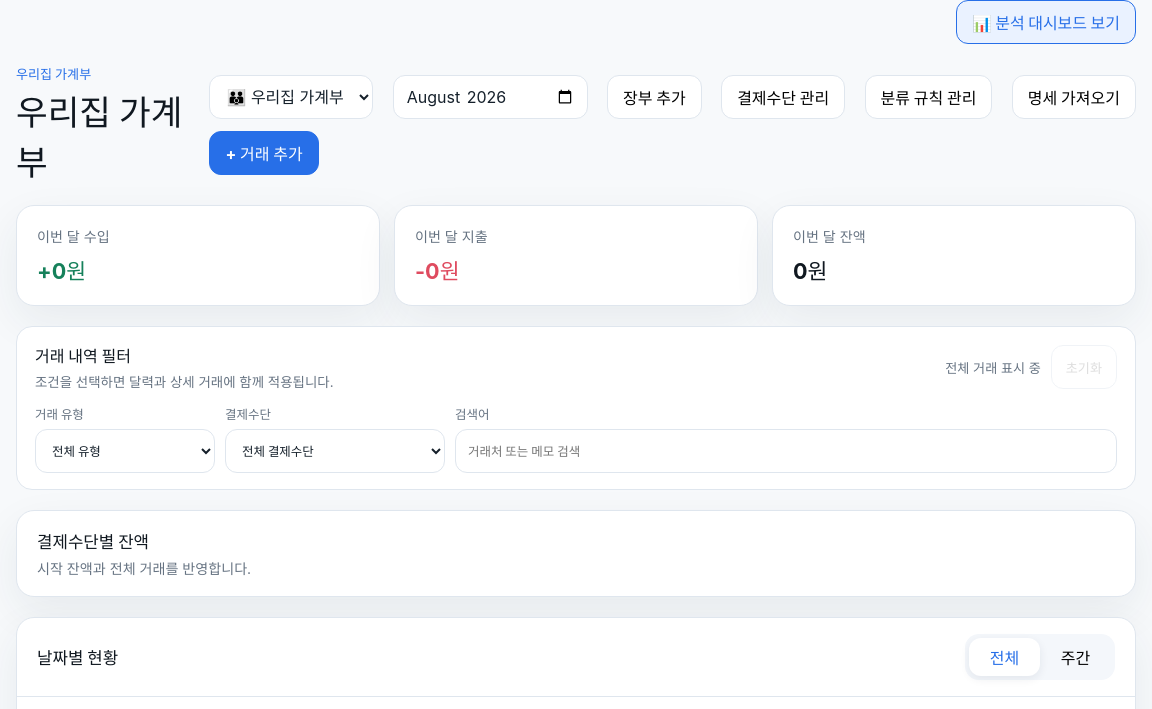
LedgerPage › clearly labels active ledger filters and resets them
Expected: the heading "거래 내역 필터" is shown, x1=35 y1=346 x2=131 y2=366
Select "수입" in the dropdown named "거래 유형 필터" at [125, 451], box x1=35 y1=429 x2=215 y2=473
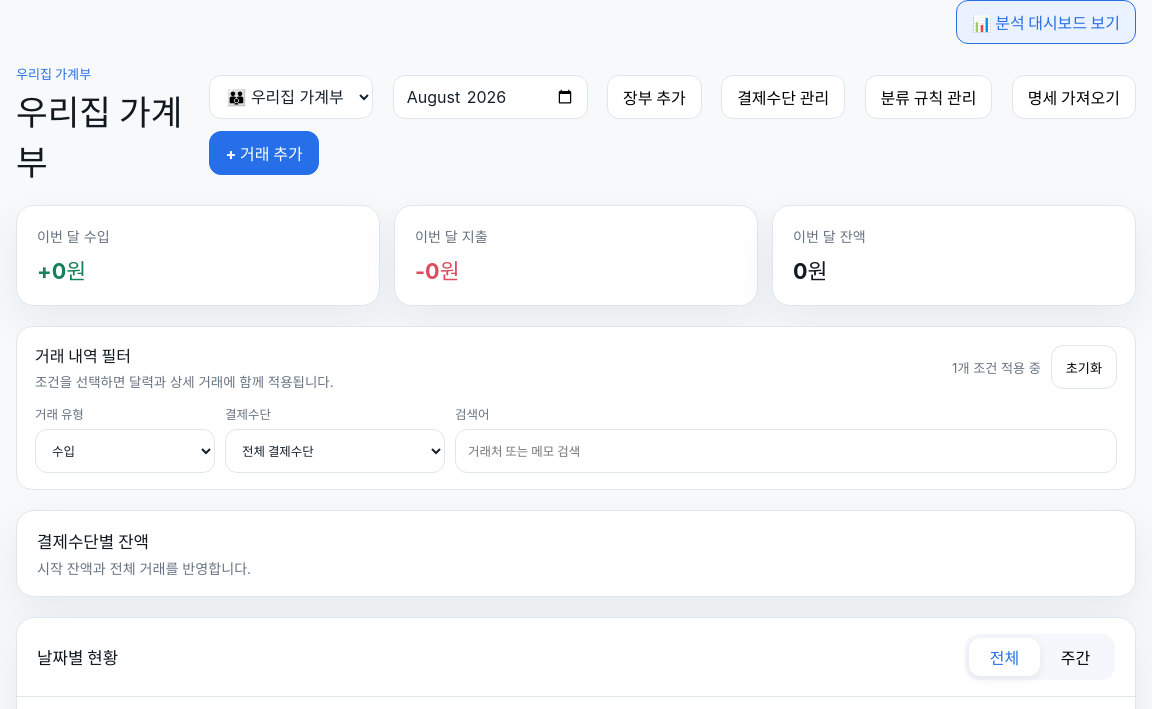
Expected: the text "1개 조건 적용 중" is shown, x1=952 y1=358 x2=1041 y2=376
Click the button "초기화".
click(1084, 367)  # box x1=1051 y1=345 x2=1117 y2=389
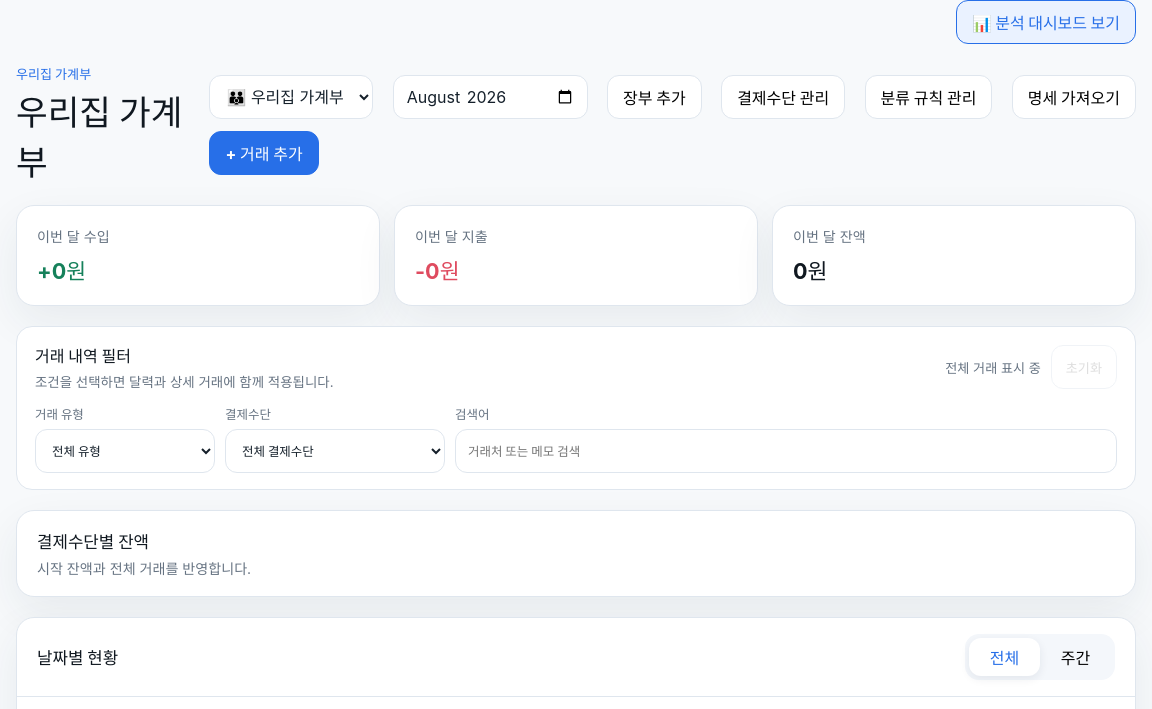
Expected: the text "전체 거래 표시 중" is shown, x1=945 y1=358 x2=1041 y2=376
